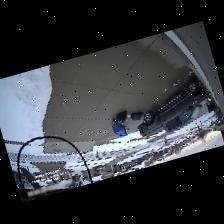person: (111, 111, 129, 124)
